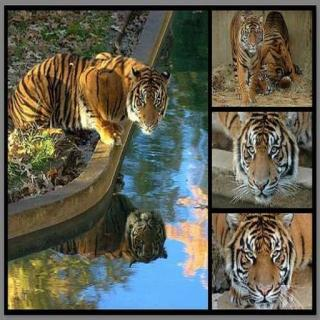Tiger: (8, 36, 176, 156), (219, 212, 308, 306), (224, 110, 308, 205), (219, 9, 276, 97), (119, 202, 172, 267), (269, 10, 294, 85)
